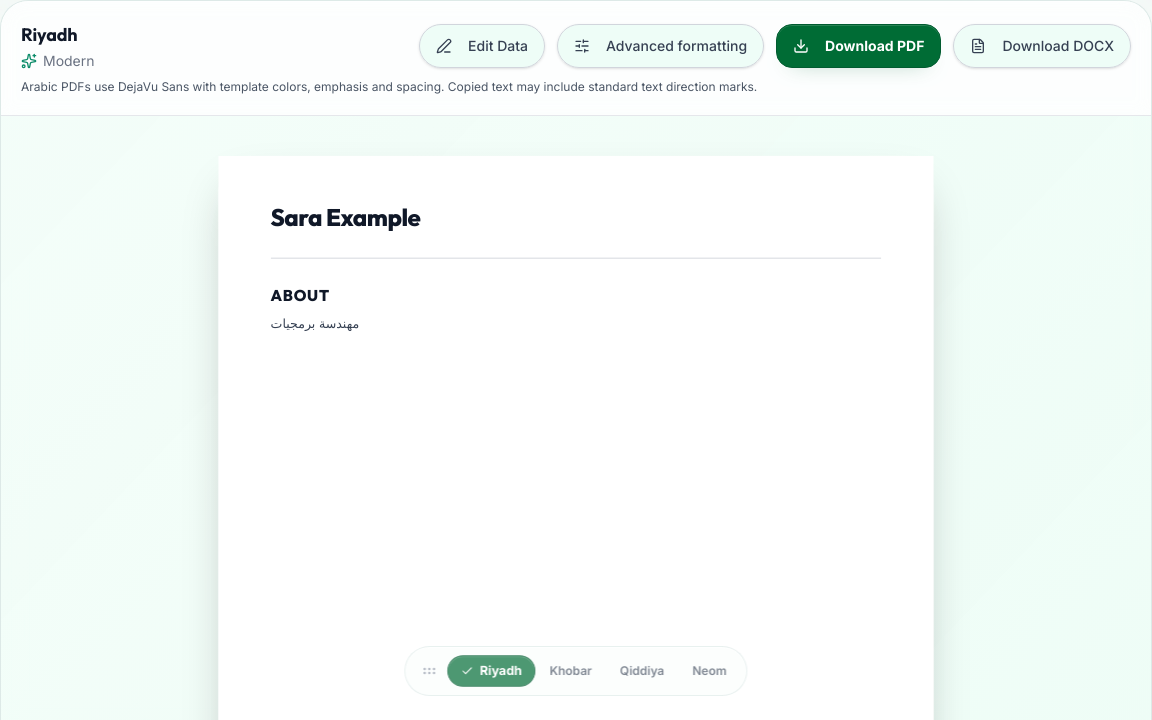
signed-out PDF downloads › bounds image preparation when animation frames never resume
Click the button "Download PDF": (859, 46) [776,24,941,68]
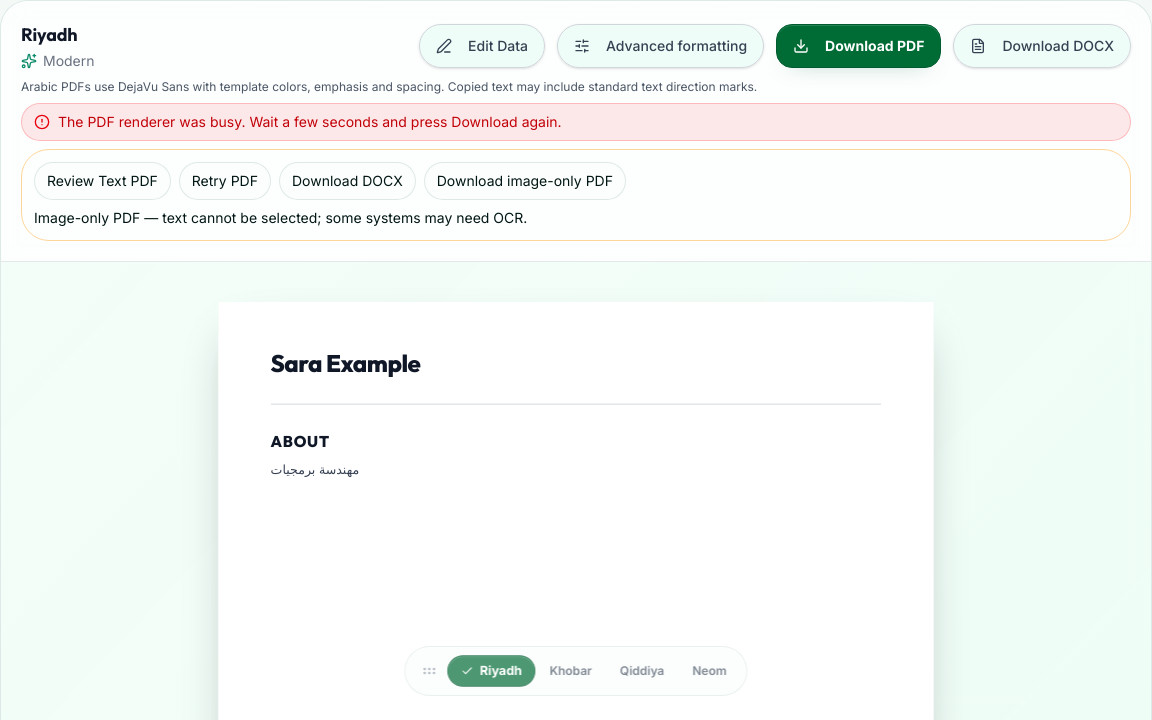
Click the button "Download image-only PDF": (525, 181) [424,162,626,200]
Wait 20001 ms
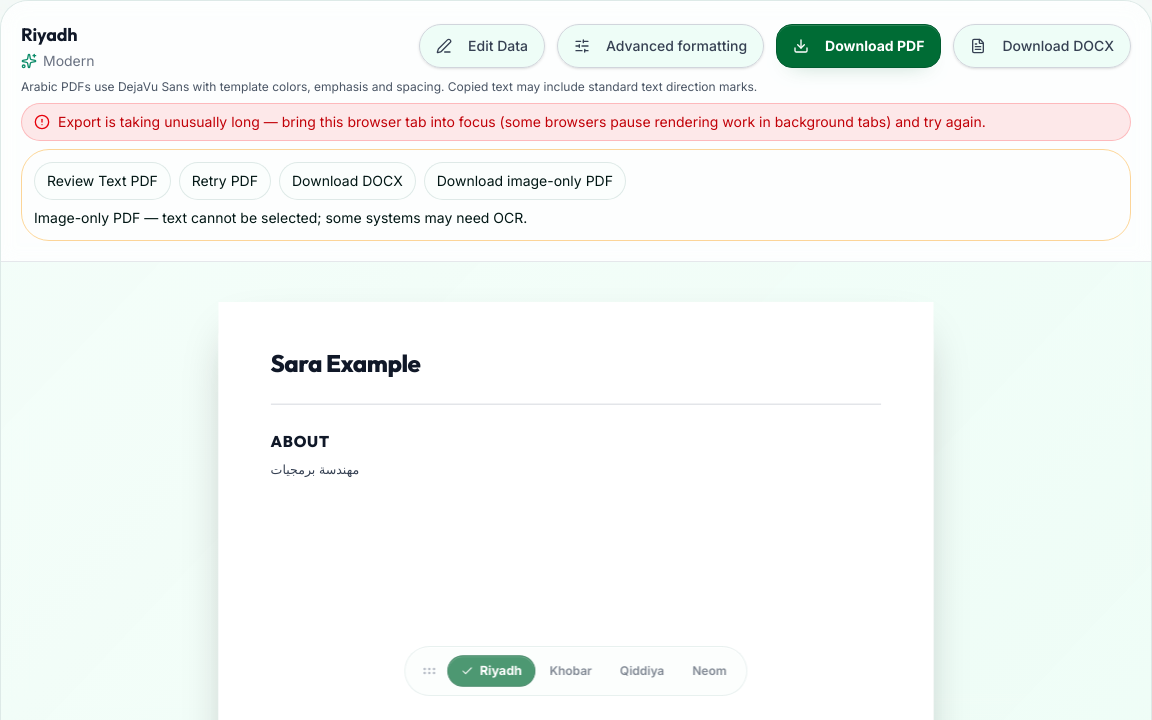
Now the button "Download image-only PDF" is enabled, box [424,162,626,200]
Now the message shows "bring this browser tab into focus", box [58,113,986,130]
